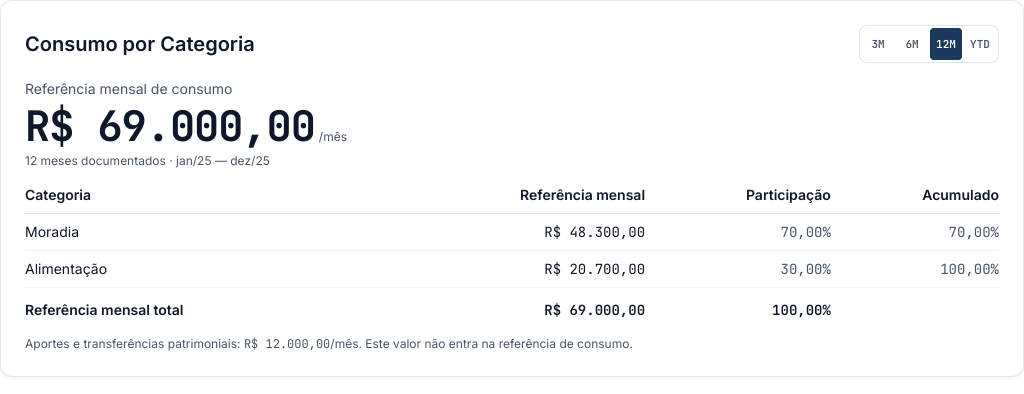
Test: <OrcamentoProspectivoCard /> › troca atomicamente para consumo, rows e transferência de 3M
This screenshot has width=1024, height=394.
Click the button "3M" at (878, 44), box [862,28,894,60]
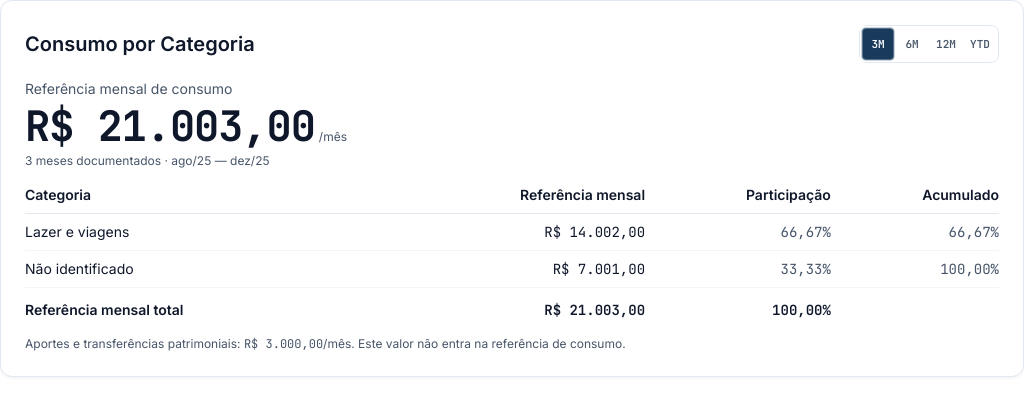
expect the text with test id "consumo-window-kpi" reads "R$ 21.003,00": met, box [25,98,315,154]
expect the text "3 meses documentados · ago/25 — dez/25" is shown: met, box [25,153,270,168]
expect the text "Lazer e viagens" is shown: met, box [25,214,372,251]
